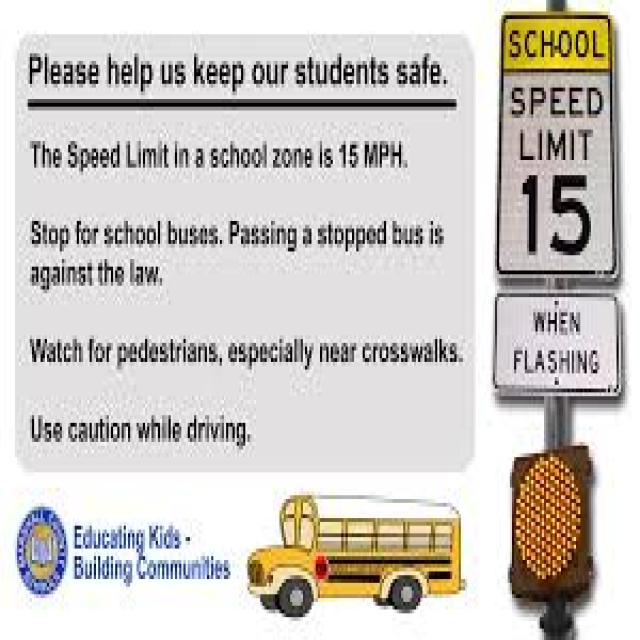speedLimit15: (504, 65, 614, 274)
